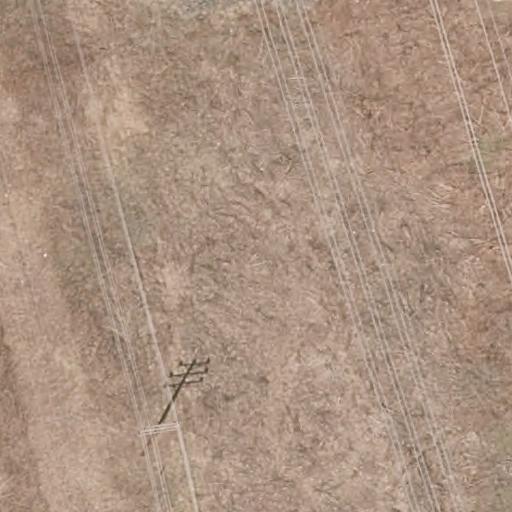DT: (136, 420, 179, 457)
